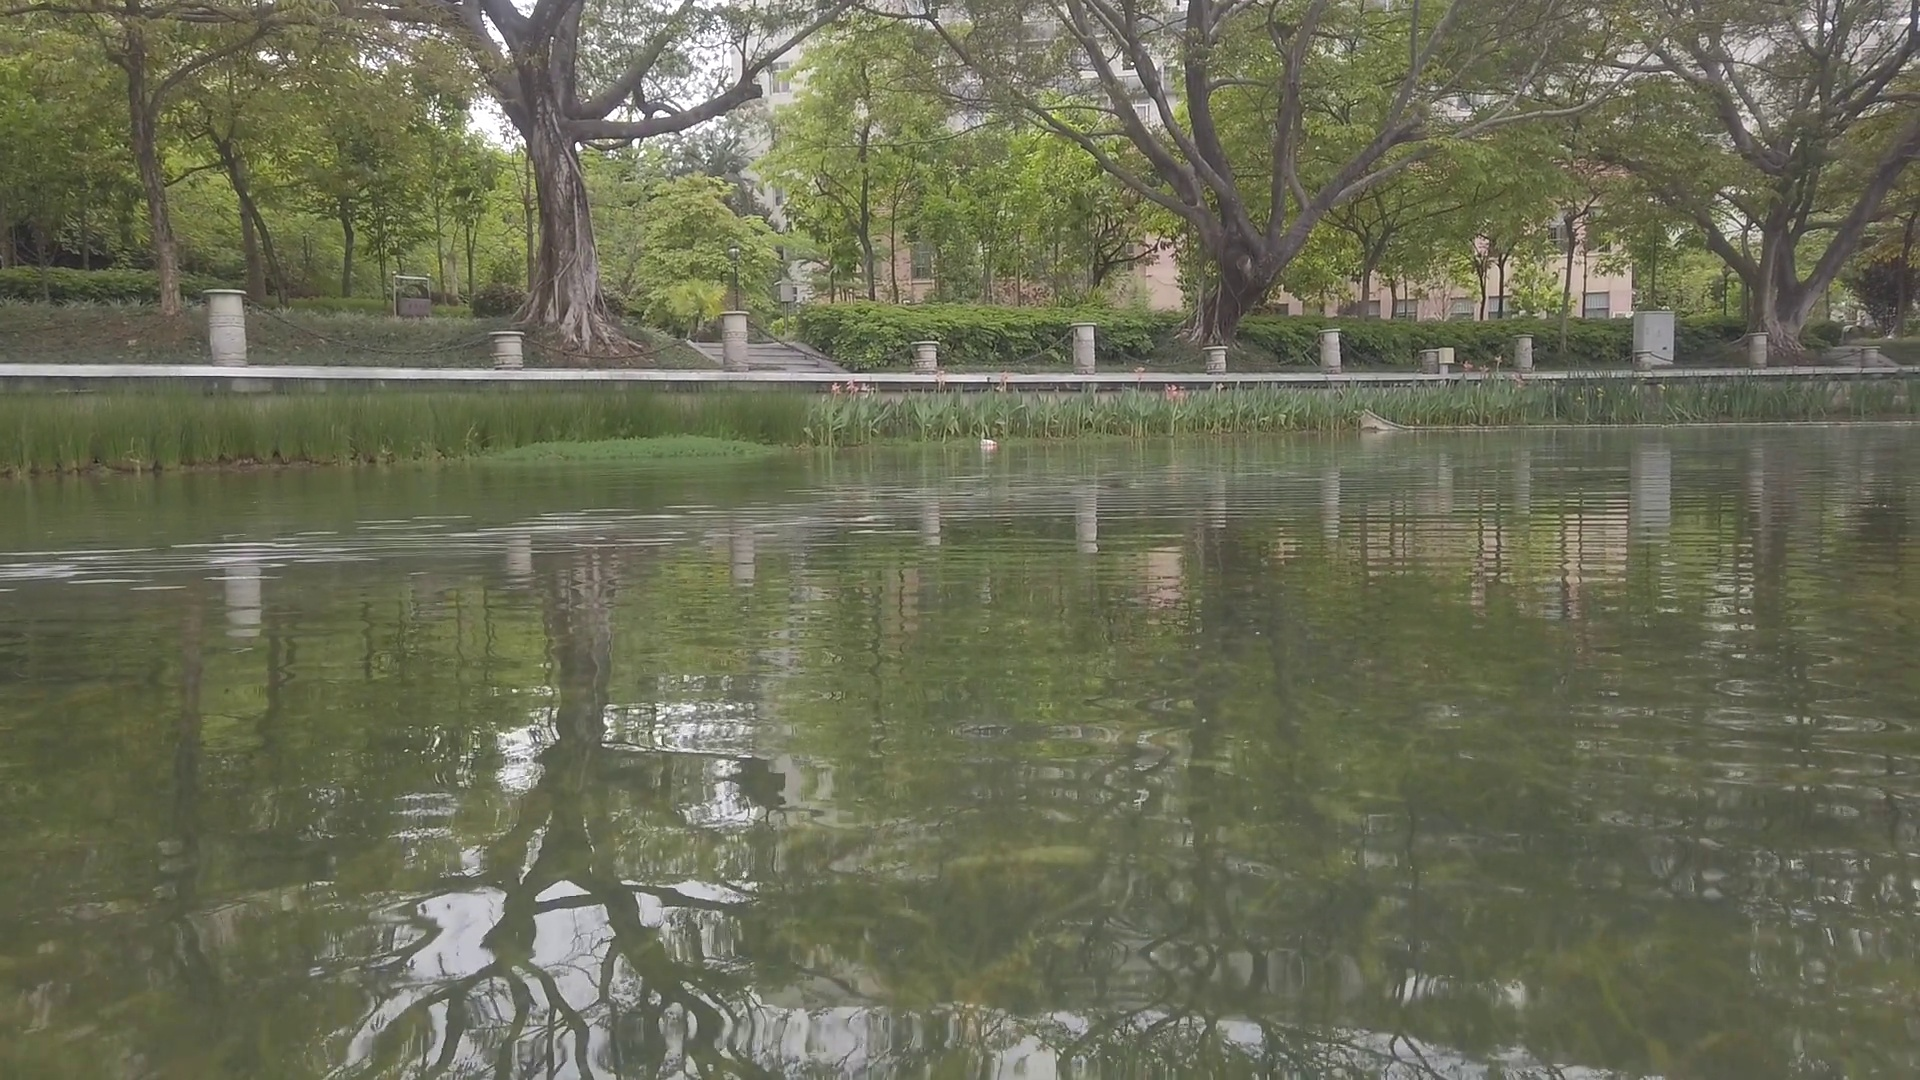bottle: (977, 439, 1000, 447)
